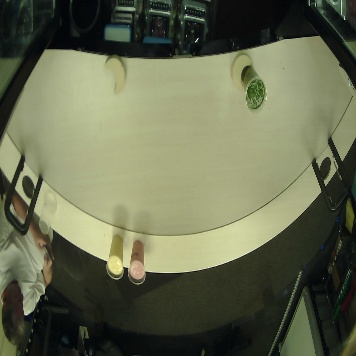empty_cup: (37, 189, 60, 237)
full_cup: (241, 63, 271, 120), (128, 239, 152, 290), (107, 235, 125, 286)
puck: (99, 53, 131, 98), (230, 48, 253, 91)
